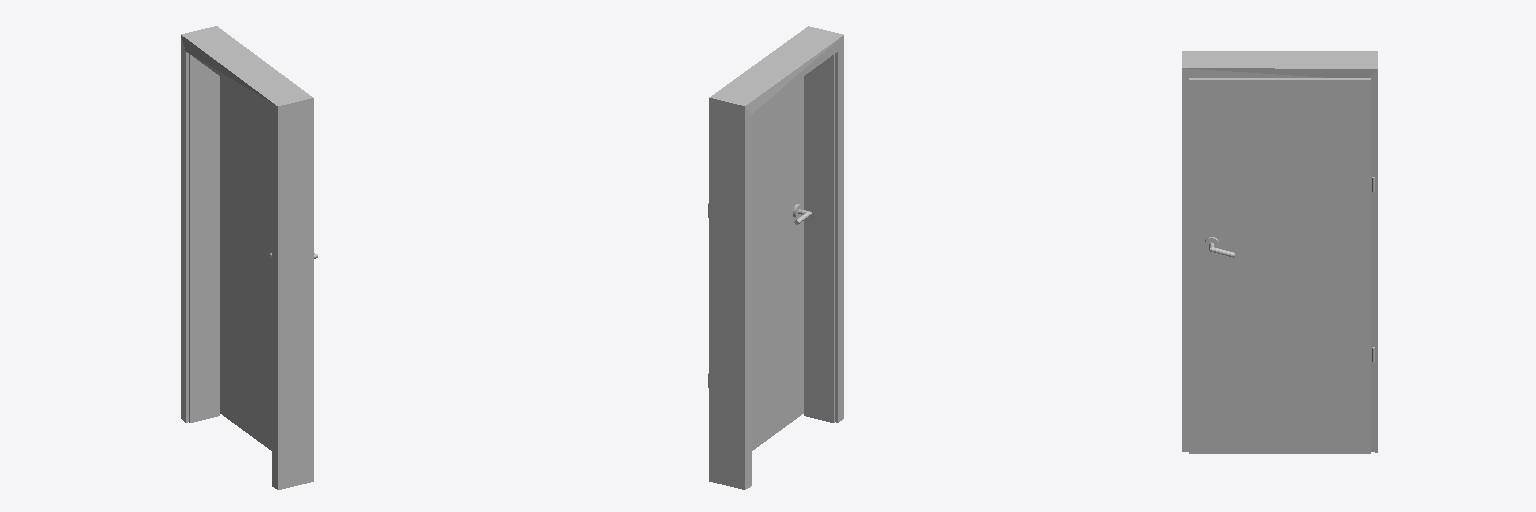
File: door36.obj
3 renders of one model, left to right at view 1: azimuth 30°, elevation 25°; view 2: azimuth 150°, elevation 25°; view 3: azimuth 270°, elevation 25°, orthographic.
Parts seen in each view (by area): view 1: Cylinder.005, Cylinder.001; view 2: Cylinder.005, Cylinder.001; view 3: Cylinder.001, Cylinder.005.
Boxes of the visible parts, x1=… form: Cylinder.005: x1=181, y1=26, x2=313, y2=489; Cylinder.001: x1=220, y1=77, x2=271, y2=450; Cylinder.005: x1=708, y1=26, x2=843, y2=489; Cylinder.001: x1=708, y1=77, x2=803, y2=450; Cylinder.001: x1=1189, y1=78, x2=1374, y2=453; Cylinder.005: x1=1182, y1=51, x2=1377, y2=452.
Size of the model in its own units: 0.3039 by 2.05 by 0.95.